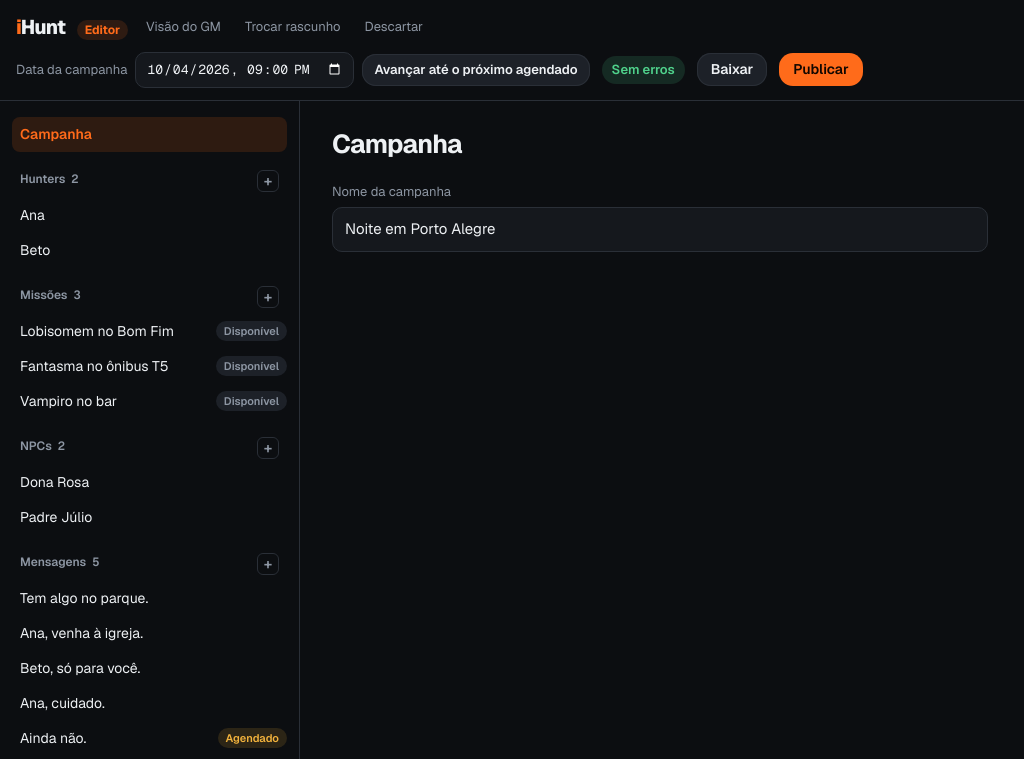
Publicar › sends nothing when the GM cancels the password
The image size is (1024, 759).
Click the button "Publicar": (821, 70) [779, 53, 863, 86]
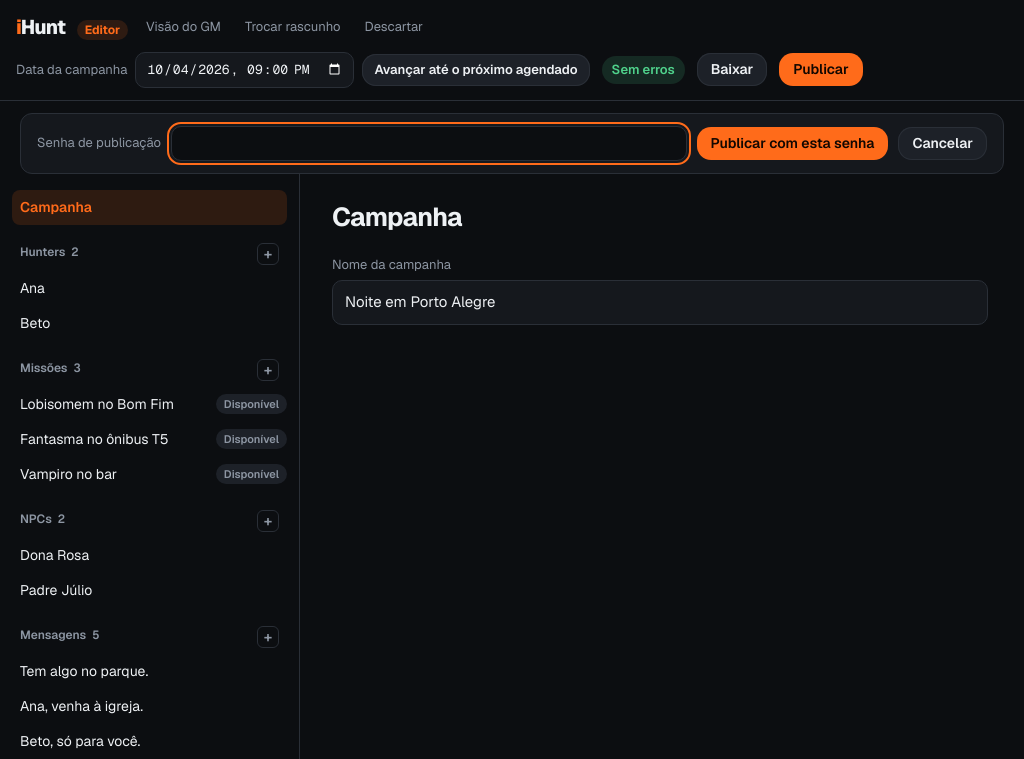
Click the button "Cancelar": (943, 143) [898, 126, 987, 160]
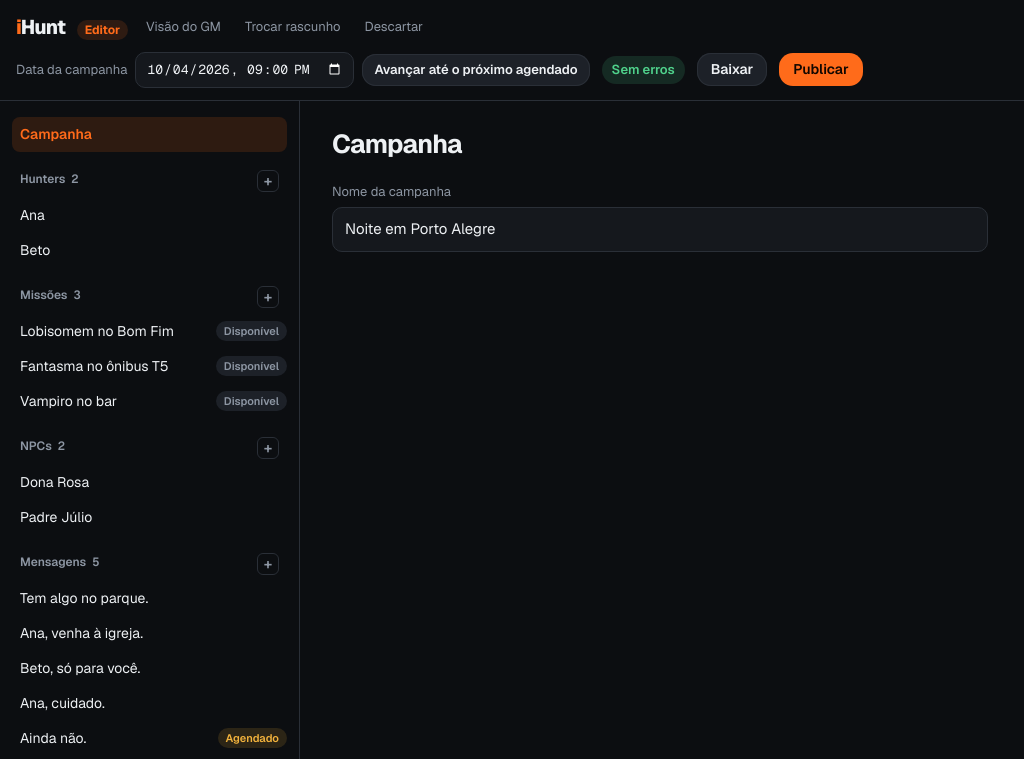
Now the text "Senha de publicação" is gone
